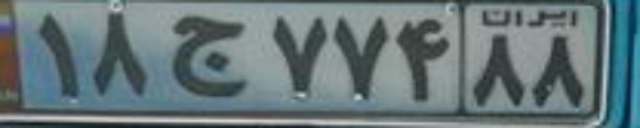1: (36, 14, 78, 96)
4: (398, 17, 450, 102)
7: (331, 15, 388, 102), (273, 16, 326, 102)
8: (88, 10, 151, 96), (532, 32, 586, 108), (471, 31, 523, 106)
jim: (163, 13, 254, 98)
